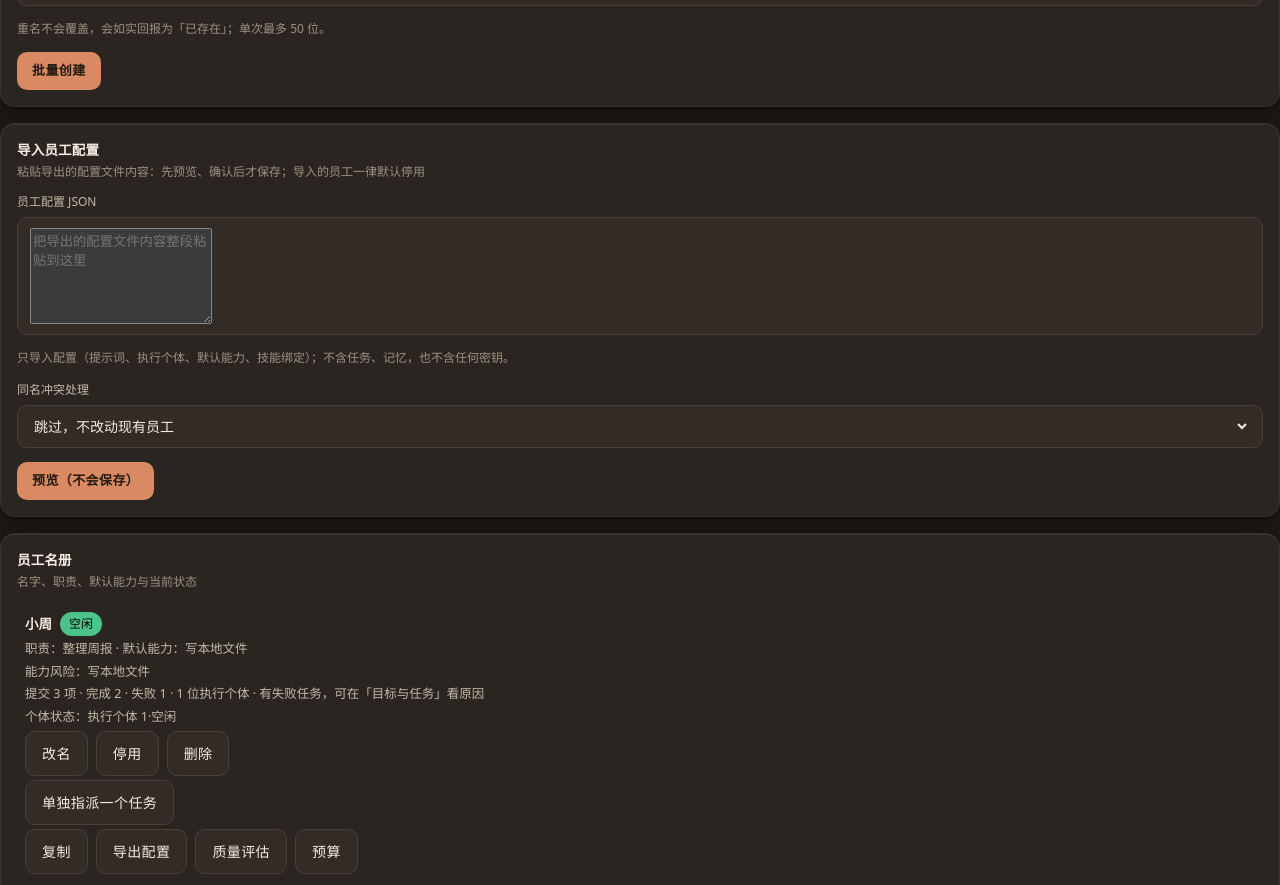
Test: 员工补齐能力 › 复制：打 copy 端点，并明确提示副本已停用
(page scrolled)
Click the button "复制": (56, 851) [25,829,88,874]
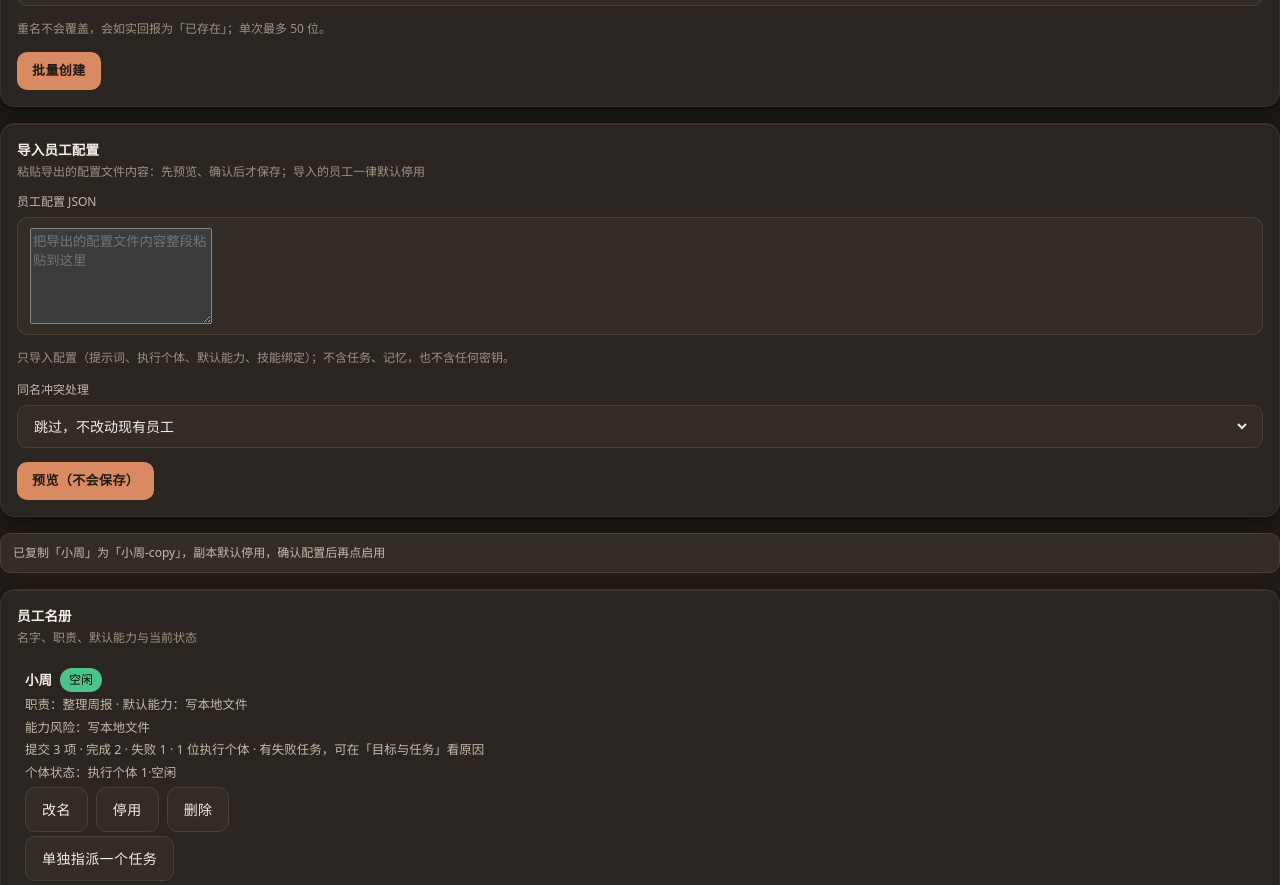
Result: the text "已复制「小周」为「小周-copy」，副本默认停用，确认配置后再点启用" is shown at [13,544,385,562]
